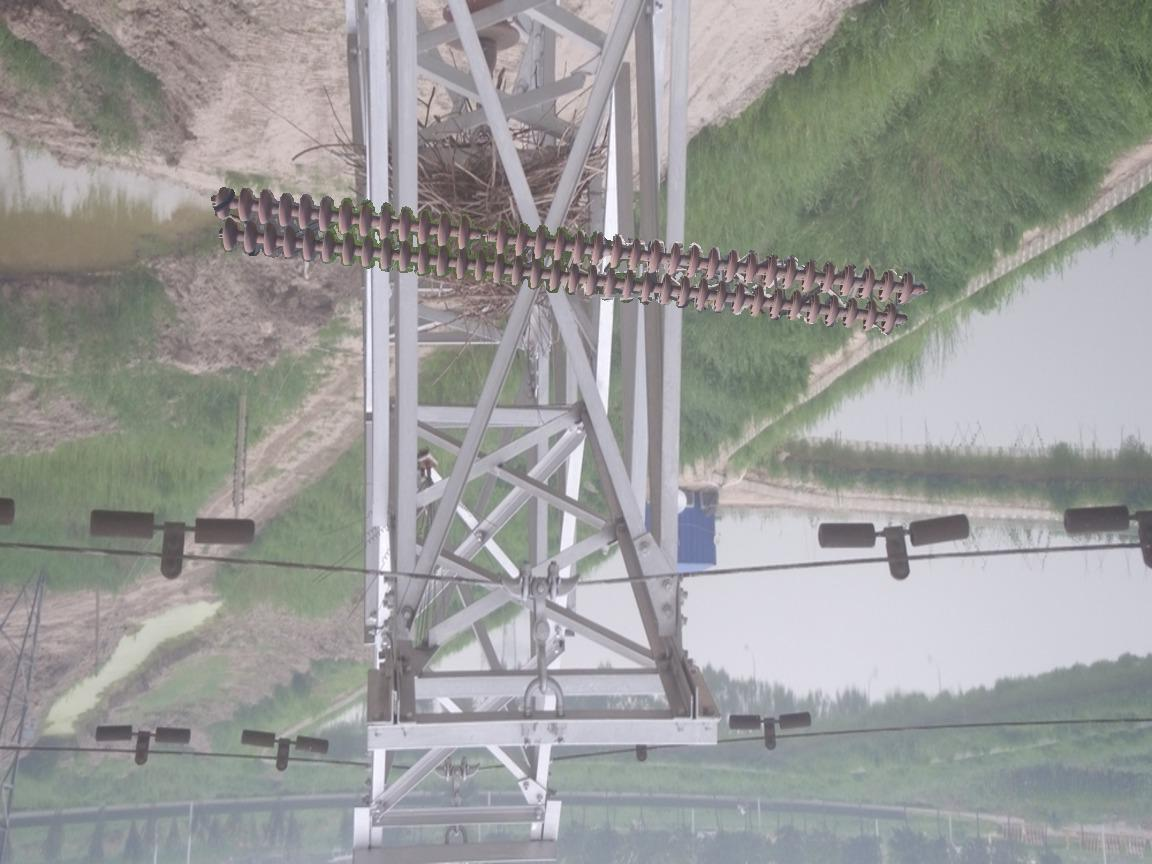insulator: (202, 182, 922, 338)
insulator_stringdrop: (454, 212, 513, 258)
